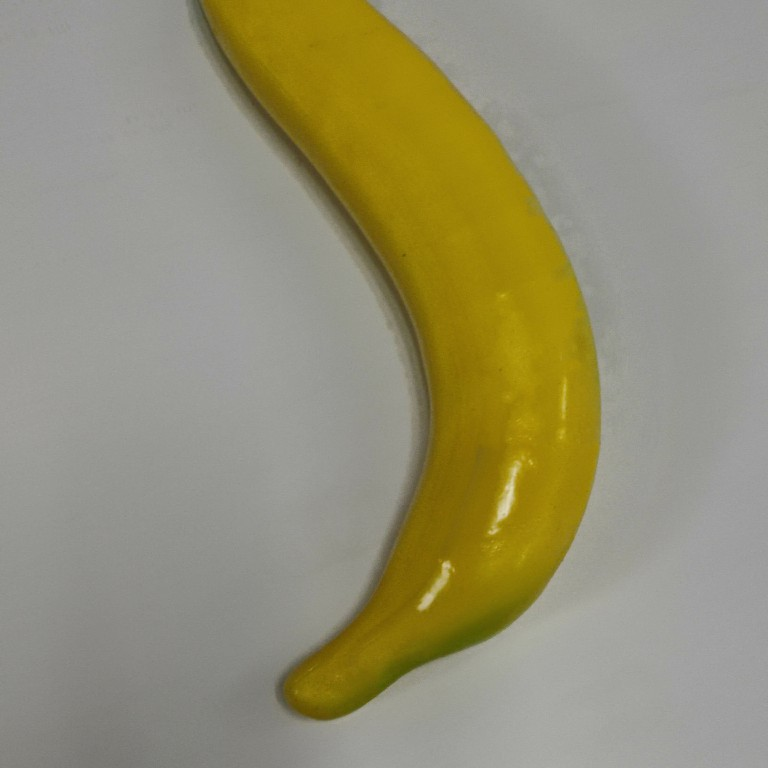fruit_banana: (190, 1, 606, 723)
